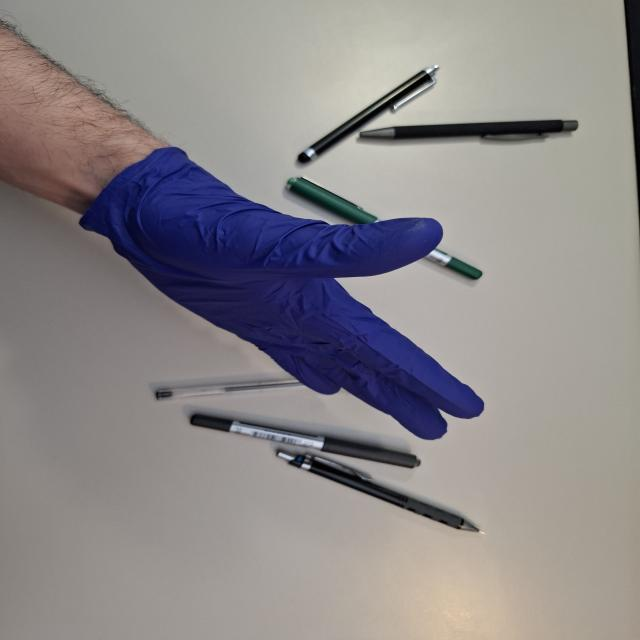glove_on: (76, 145, 488, 442)
